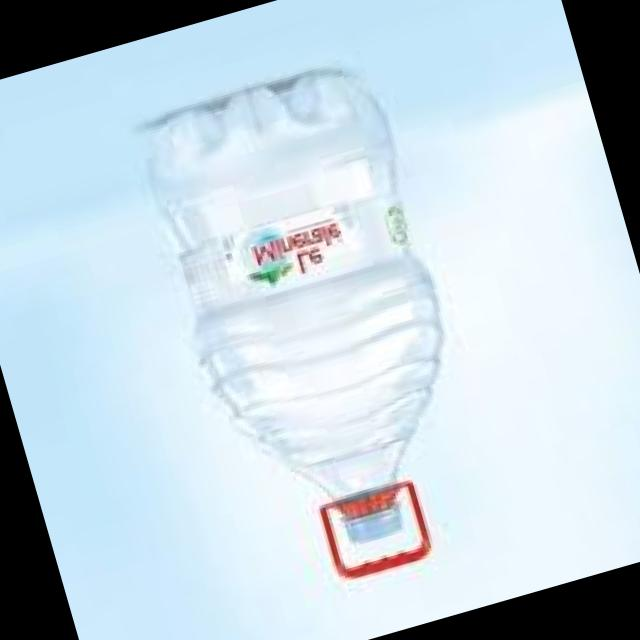Galon: (123, 53, 509, 610)
